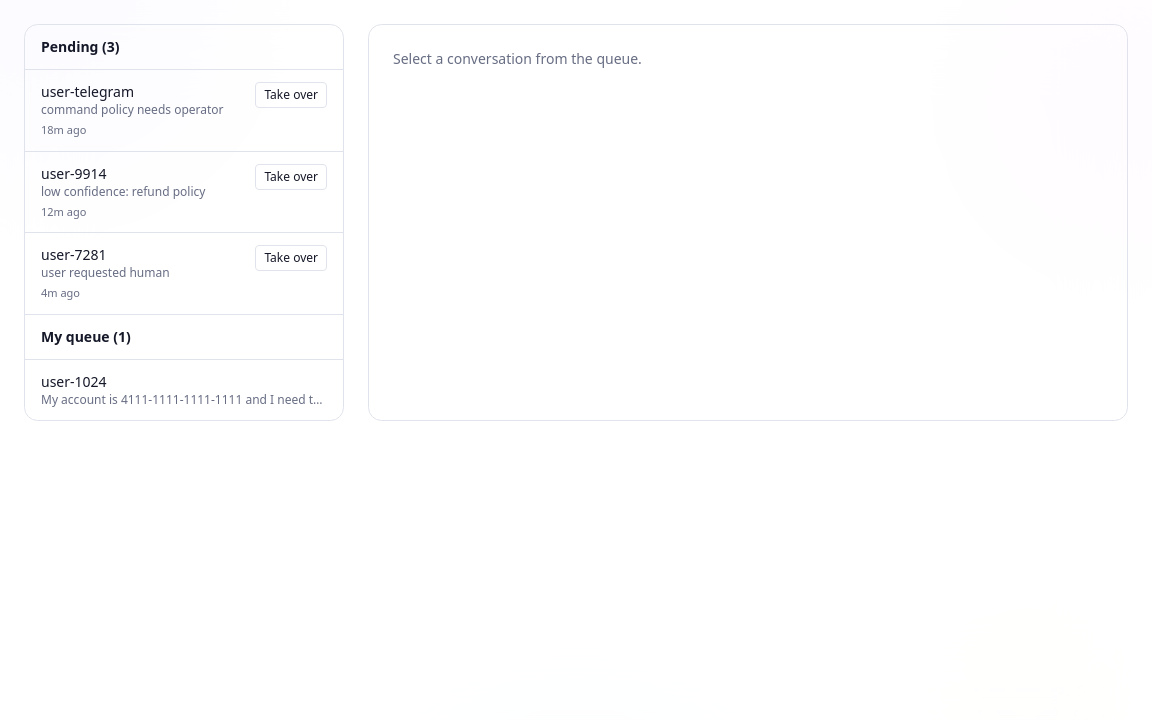
Test case: InboxScreen › Resolve drops the item from the queue and closes the detail pane
The width and height of the screenshot is (1152, 720).
Click the button with test id "claim-11111111-1111-1111-1111-111111111111". click: x=291, y=258
box: x1=255 y1=245 x2=327 y2=271
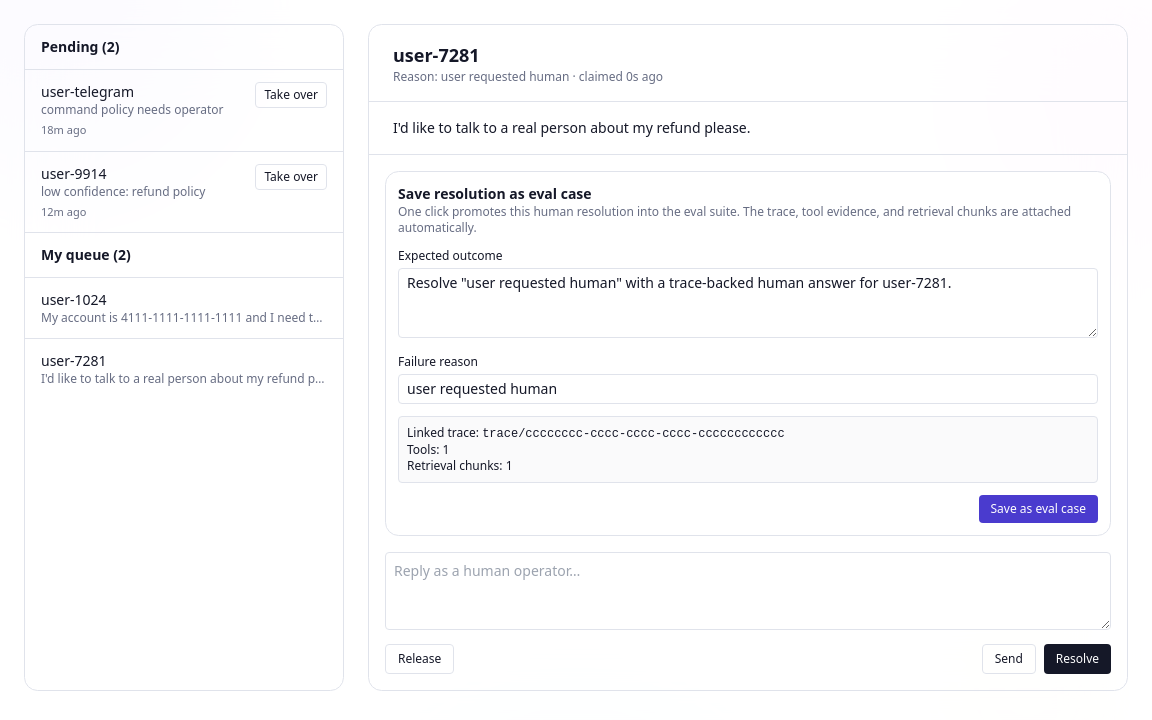
Click the button with test id "resolve-button". click: x=1077, y=659
box: x1=1044 y1=644 x2=1111 y2=674
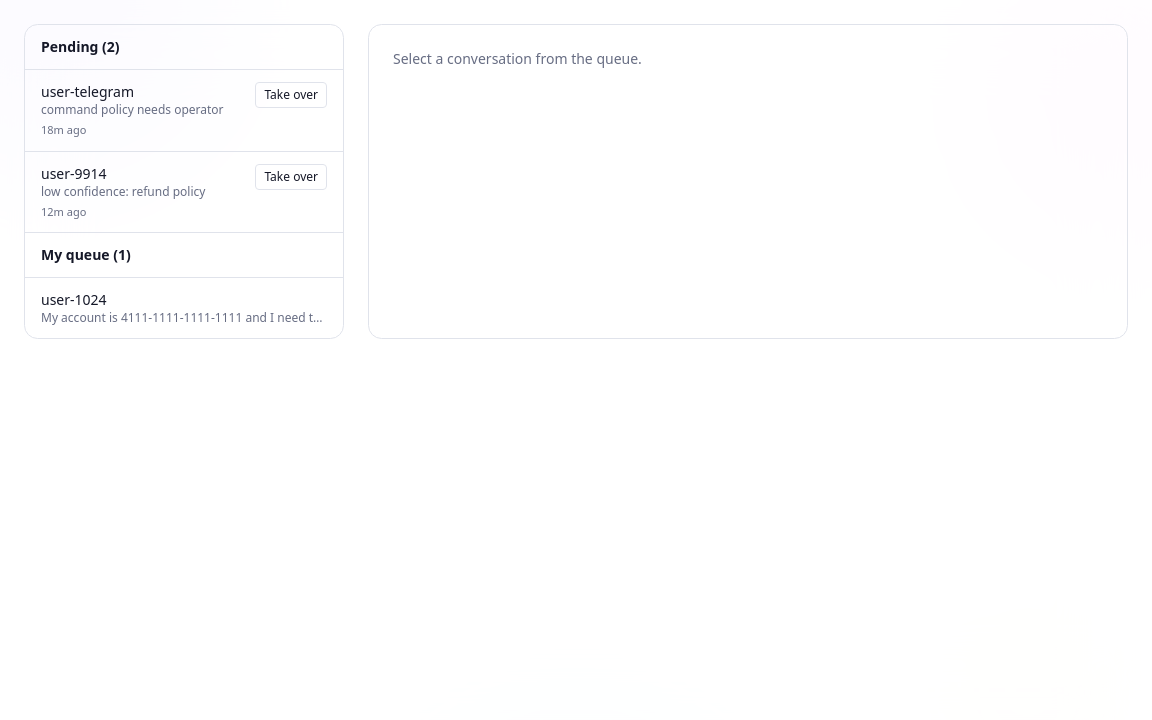
Result: the text box with test id "composer-input" is gone
Result: the text "Select a conversation from the queue." is shown at x1=393 y1=49 x2=642 y2=68
